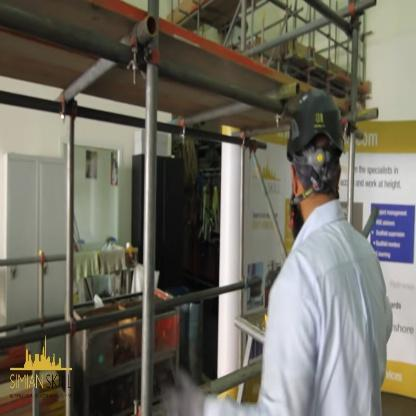helmet: (272, 78, 355, 226)
